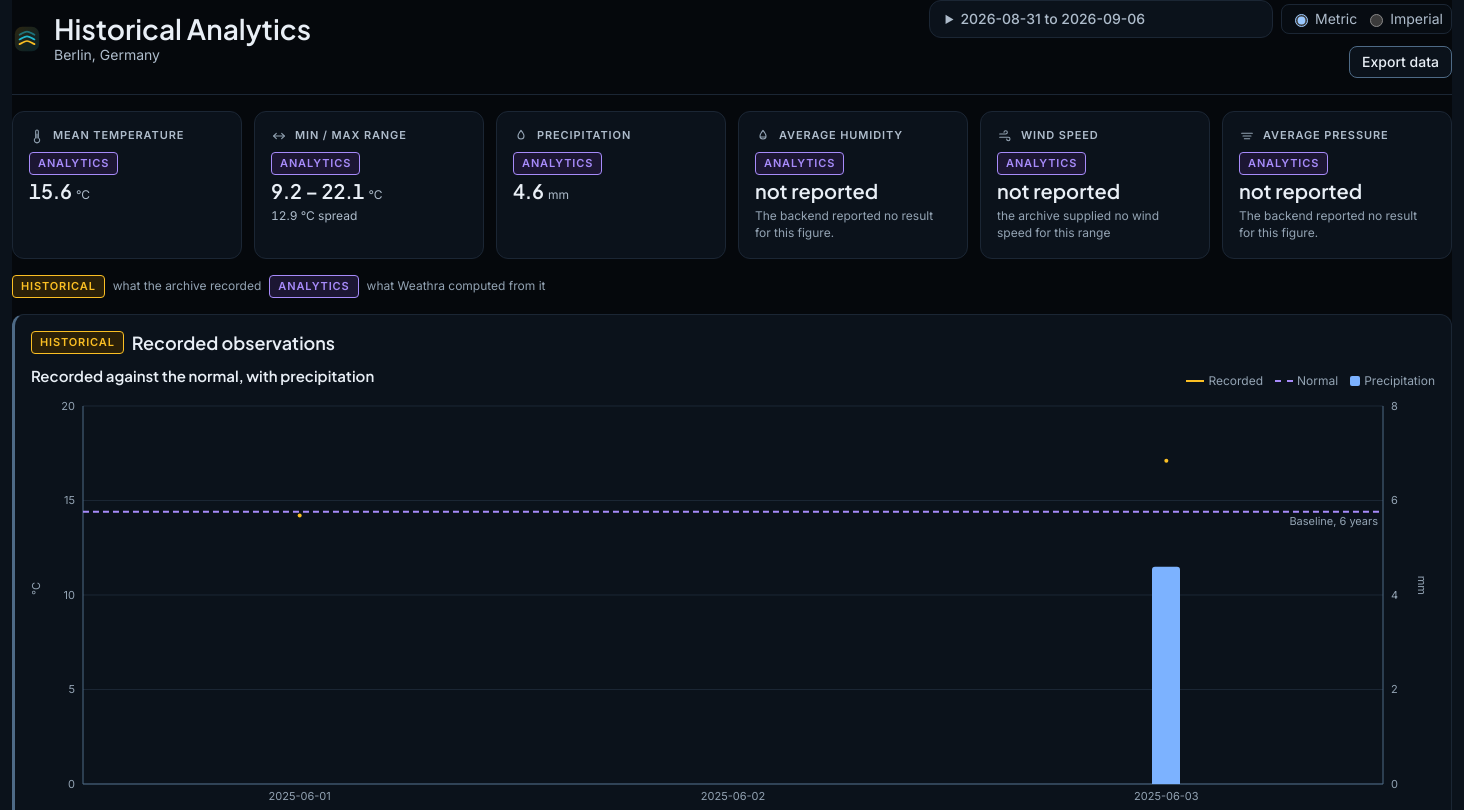
Test: the toolbar (3.3, 3.6) › states the whole selection in words, with every field one press away
The image size is (1464, 810).
Expected: the field labelled "Location" is not shown
What coordinates should you click on to do the following:
click the heading "2026-08-31 to 2026-09-06"
I would click on:
 (1053, 18)
Its box is [960,10,1145,27].
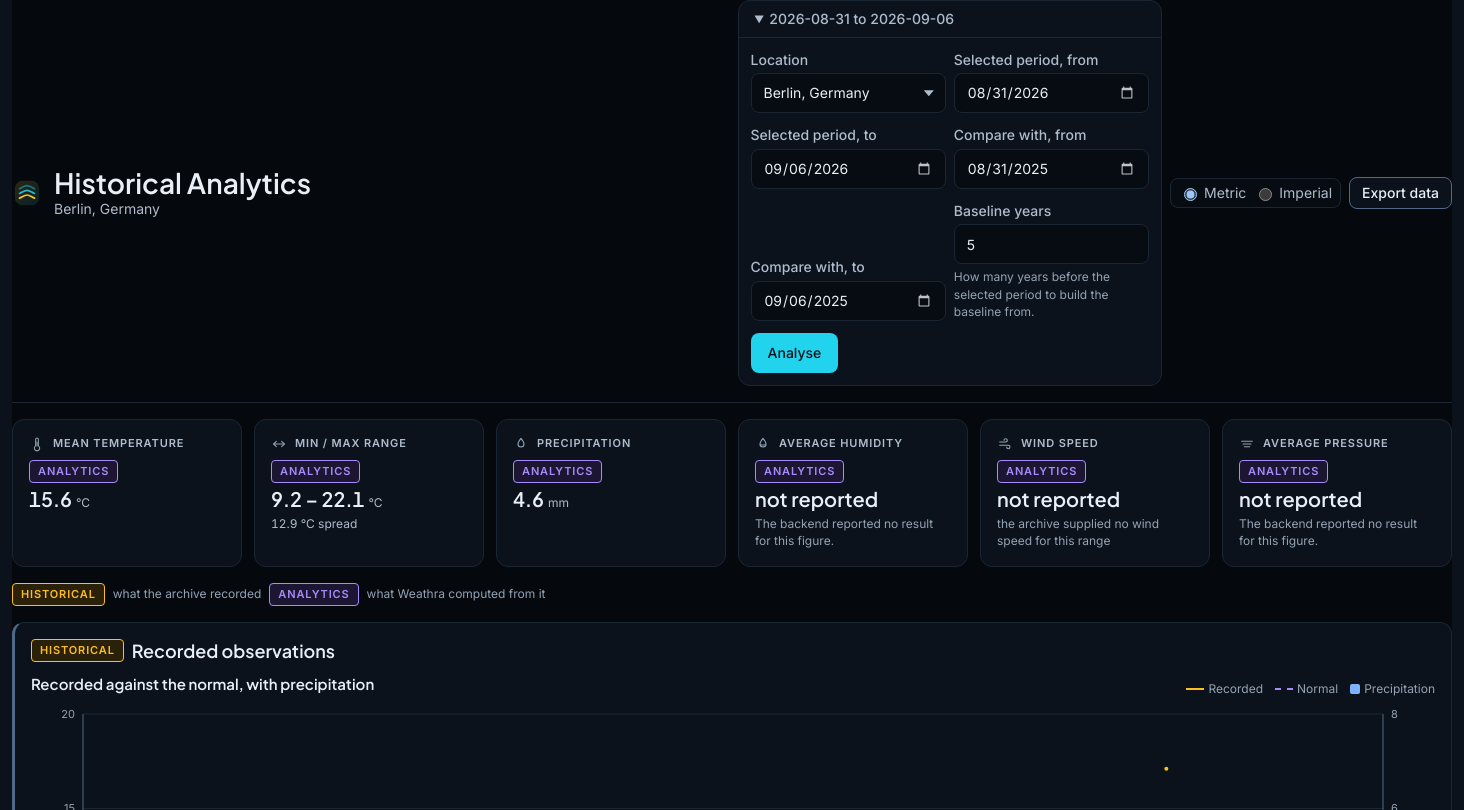
Expected: the dropdown labelled "Location" is shown, [750,73,946,113]
Expected: the date field labelled "Selected period, from" is shown, [954,73,1149,113]
Expected: the button "Analyse" is shown, [750,332,838,372]
